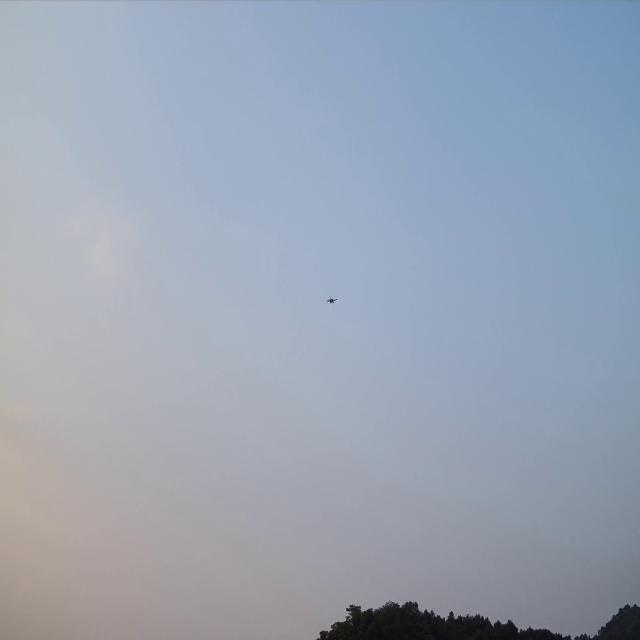UAV: (325, 295, 339, 305)
